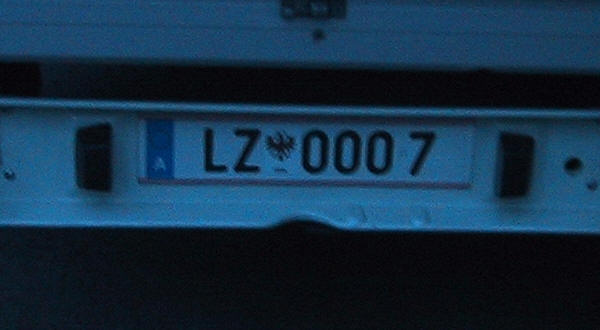license_plate: (136, 115, 475, 190)
